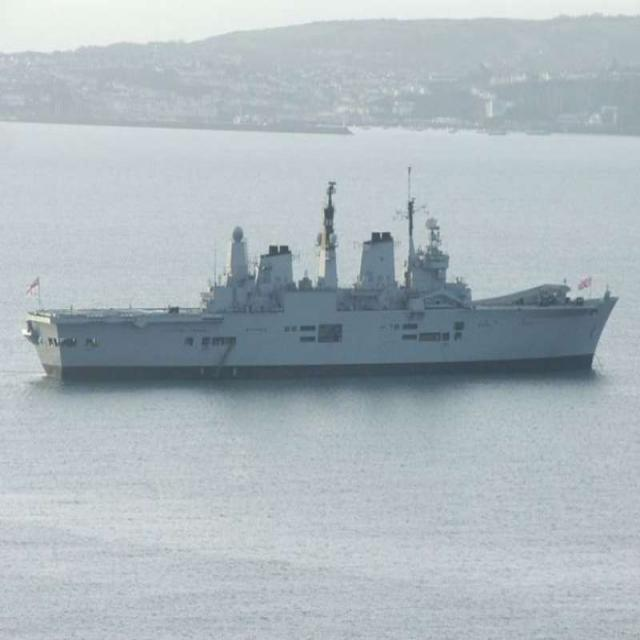Portanaves: (18, 162, 624, 382)
